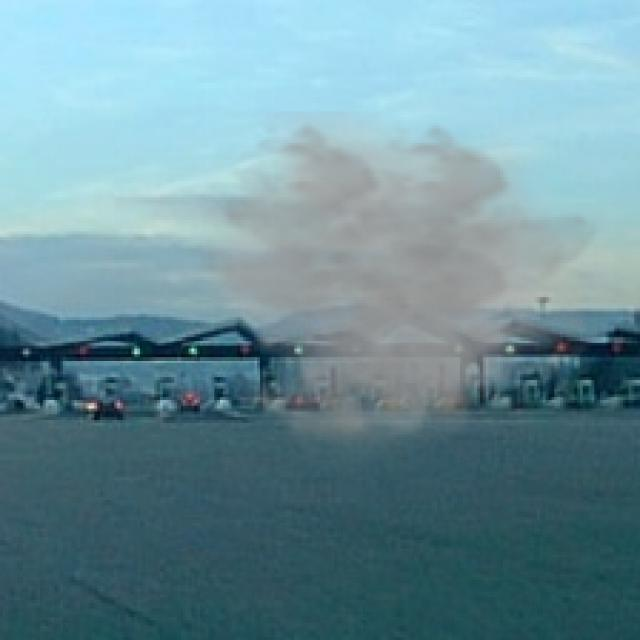Smoke: (188, 112, 603, 474)
